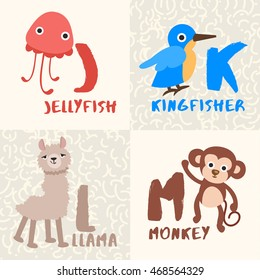animal: (19, 11, 107, 99), (15, 138, 72, 249), (185, 144, 250, 227)
bird: (141, 18, 220, 96)
